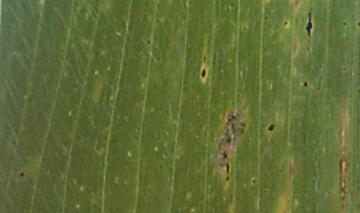tarspot: (303, 9, 314, 46), (266, 123, 277, 134), (200, 68, 208, 81), (225, 162, 232, 175), (282, 18, 291, 28), (302, 81, 310, 90), (251, 177, 258, 187), (341, 18, 348, 27), (18, 170, 26, 177), (145, 38, 153, 45), (223, 175, 231, 181), (356, 86, 360, 96), (262, 14, 268, 20), (241, 26, 248, 31), (202, 55, 207, 61), (357, 19, 360, 29)
